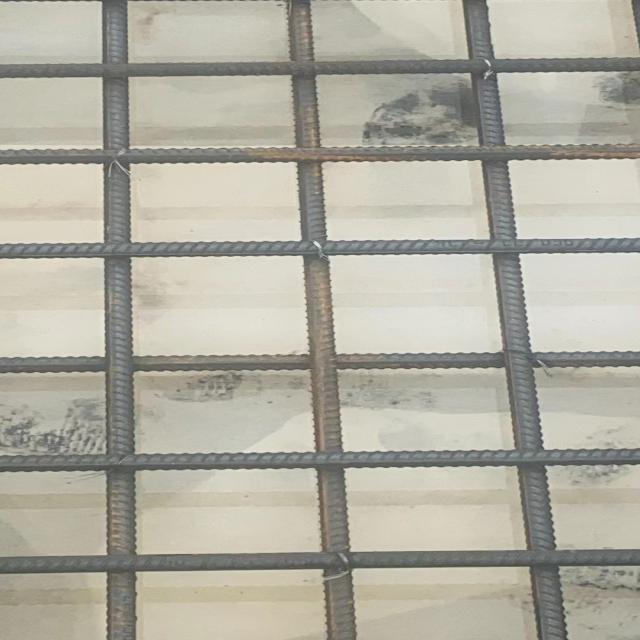ribbed bar: (460, 0, 568, 639), (283, 0, 358, 639), (100, 0, 138, 639), (0, 447, 639, 474), (0, 549, 639, 575), (0, 350, 639, 375), (0, 142, 639, 166), (0, 237, 639, 259), (0, 57, 639, 78)
